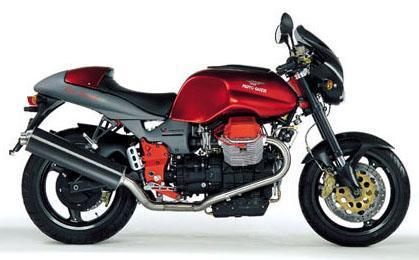motorcycle: (14, 12, 419, 254)
